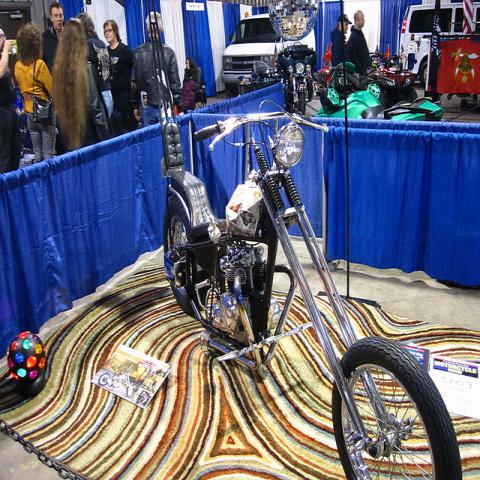car: (399, 1, 479, 88)
motorcycle: (145, 1, 463, 475), (317, 62, 446, 120)
truck: (220, 14, 316, 99)
